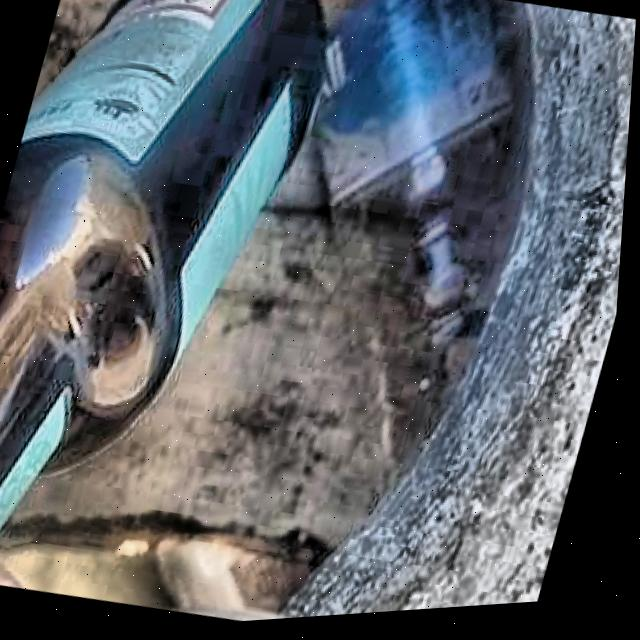glass: (0, 0, 326, 538)
